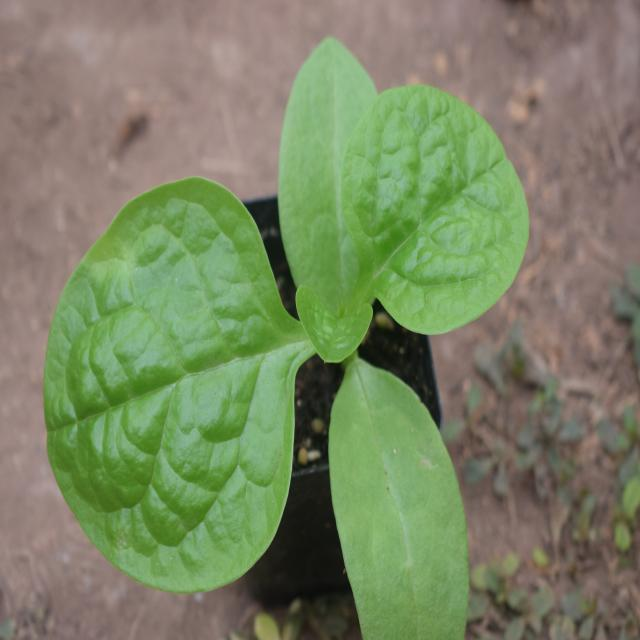Ceylon spinach: (33, 72, 521, 627)
